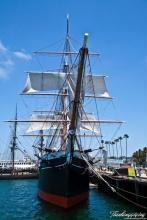fanchuan: (23, 12, 128, 209)
